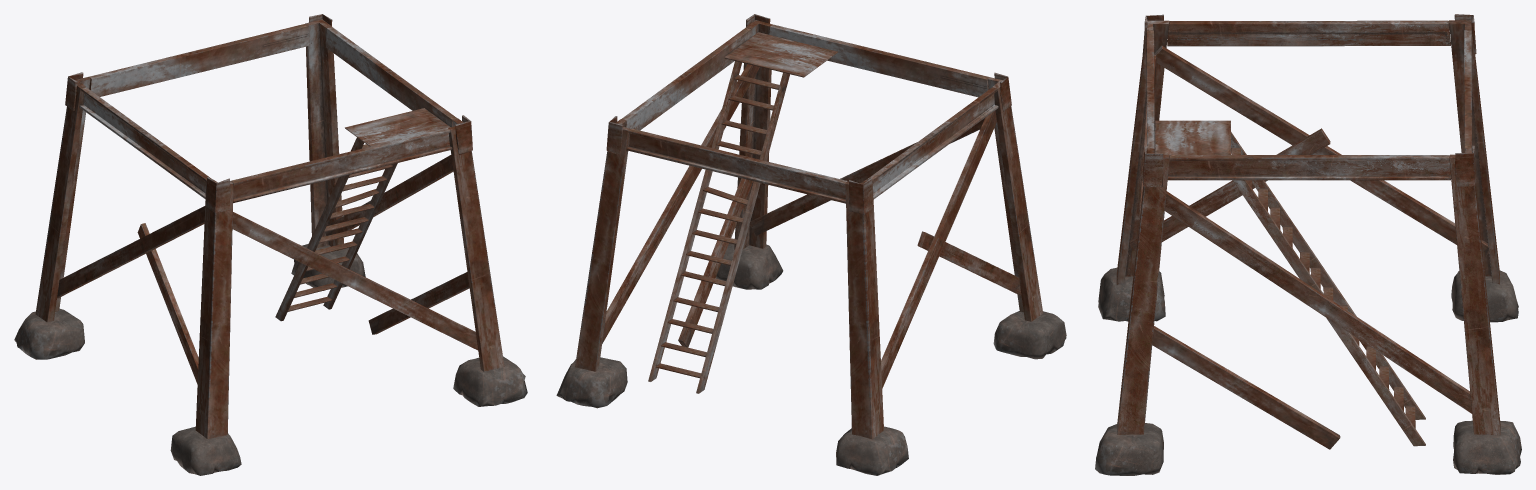
Rendered from SM_Tower_Bottom.fbx.
The picture shows the model from 3 angles, left to right: view 1: azimuth 30°, elevation 25°; view 2: azimuth 150°, elevation 25°; view 3: azimuth 270°, elevation 25°; orthographic projection. The views are drawn at different scales.
Visible parts, largest first — view 1: SM_Tower_Bottom_LOD0; view 2: SM_Tower_Bottom_LOD0; view 3: SM_Tower_Bottom_LOD0.
Part boxes in pixels (x1=…): SM_Tower_Bottom_LOD0: x1=14, y1=14, x2=527, y2=475; SM_Tower_Bottom_LOD0: x1=556, y1=14, x2=1066, y2=475; SM_Tower_Bottom_LOD0: x1=1095, y1=14, x2=1521, y2=475.
Bounding box in the file's own units: 415 × 409 × 321.
Materials: 1 (1 with a texture image).
